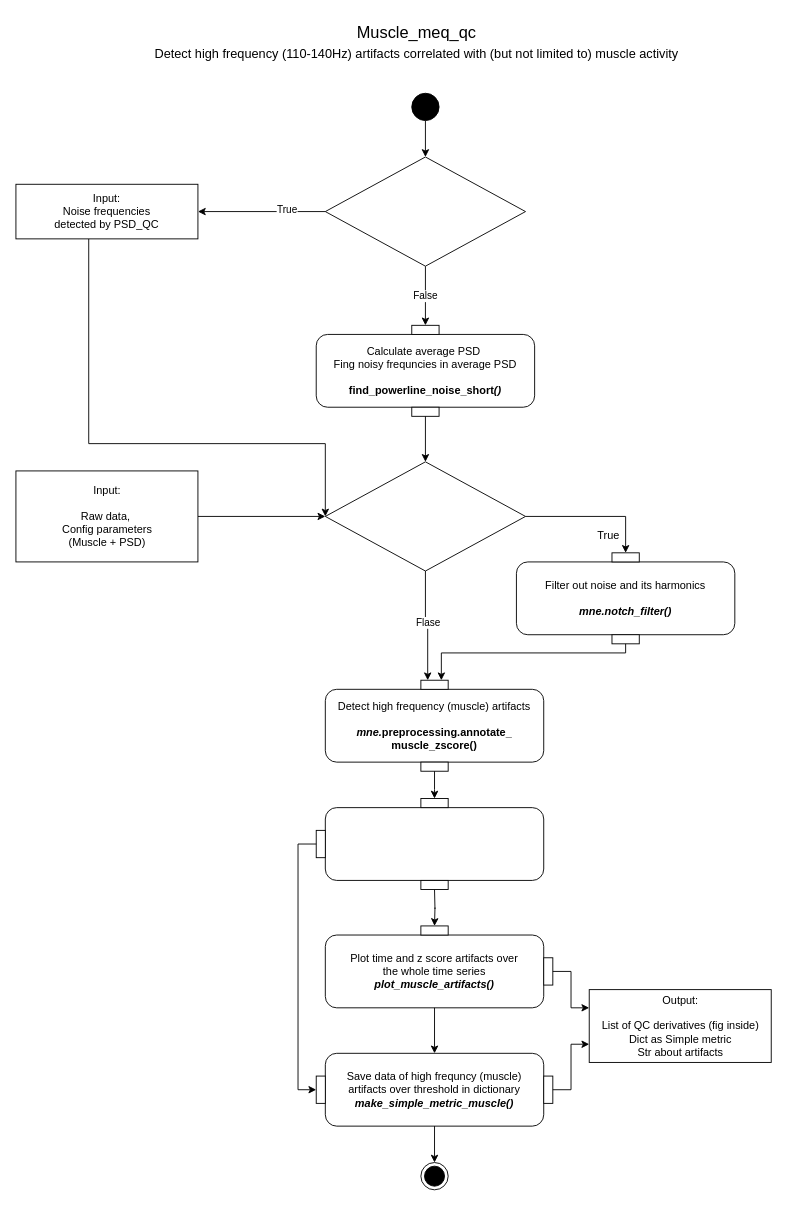
Image size: 787x1206. Some labels were removed from this diagram. The centre of each missing label's shape, as x and y in pixels:
"Find number and time artifacts above z score threshold(s) find_peaks ()" goes at (x=434, y=843).
"Noise frequencies calculated by PSD?" goes at (x=425, y=211).
"Power line (50, 60 Hz) noise present?" goes at (x=425, y=516).
